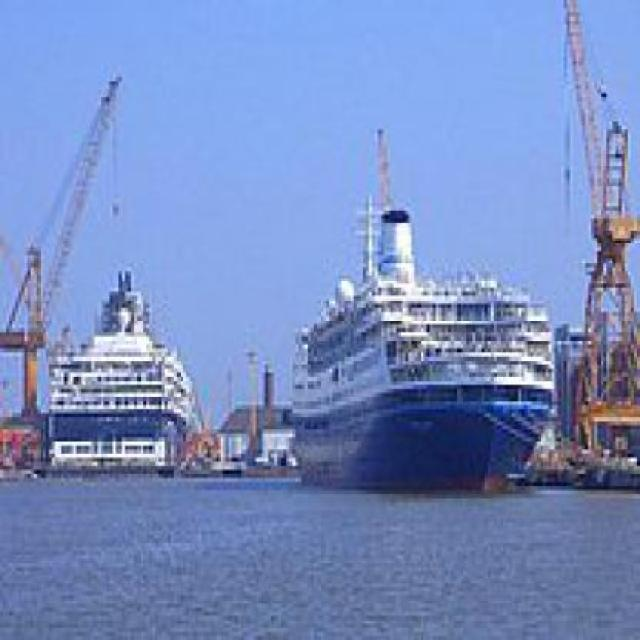cruise: (288, 196, 568, 491)
